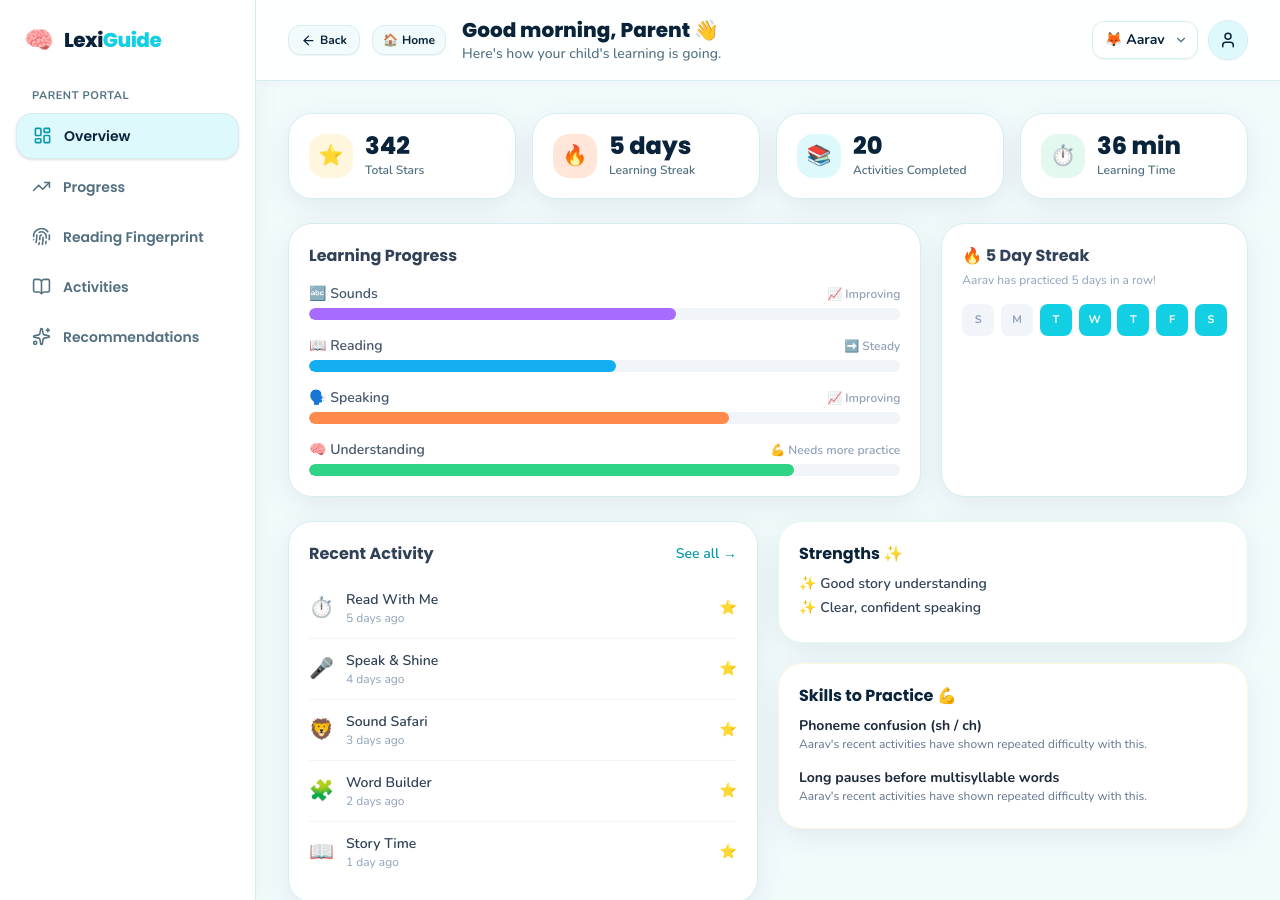
Test: Phase 3: Parent Experience › parent nav has exactly 5 primary items, Settings reached via avatar menu
The width and height of the screenshot is (1280, 900).
Check: the heading "Good morning, Parent 👋" is shown, box [462,16,721,44]
Check: the text "Overview" is shown, box [64,126,130,146]
Click the button named "parent menu" at (1228, 40), box [1208,20,1248,60]
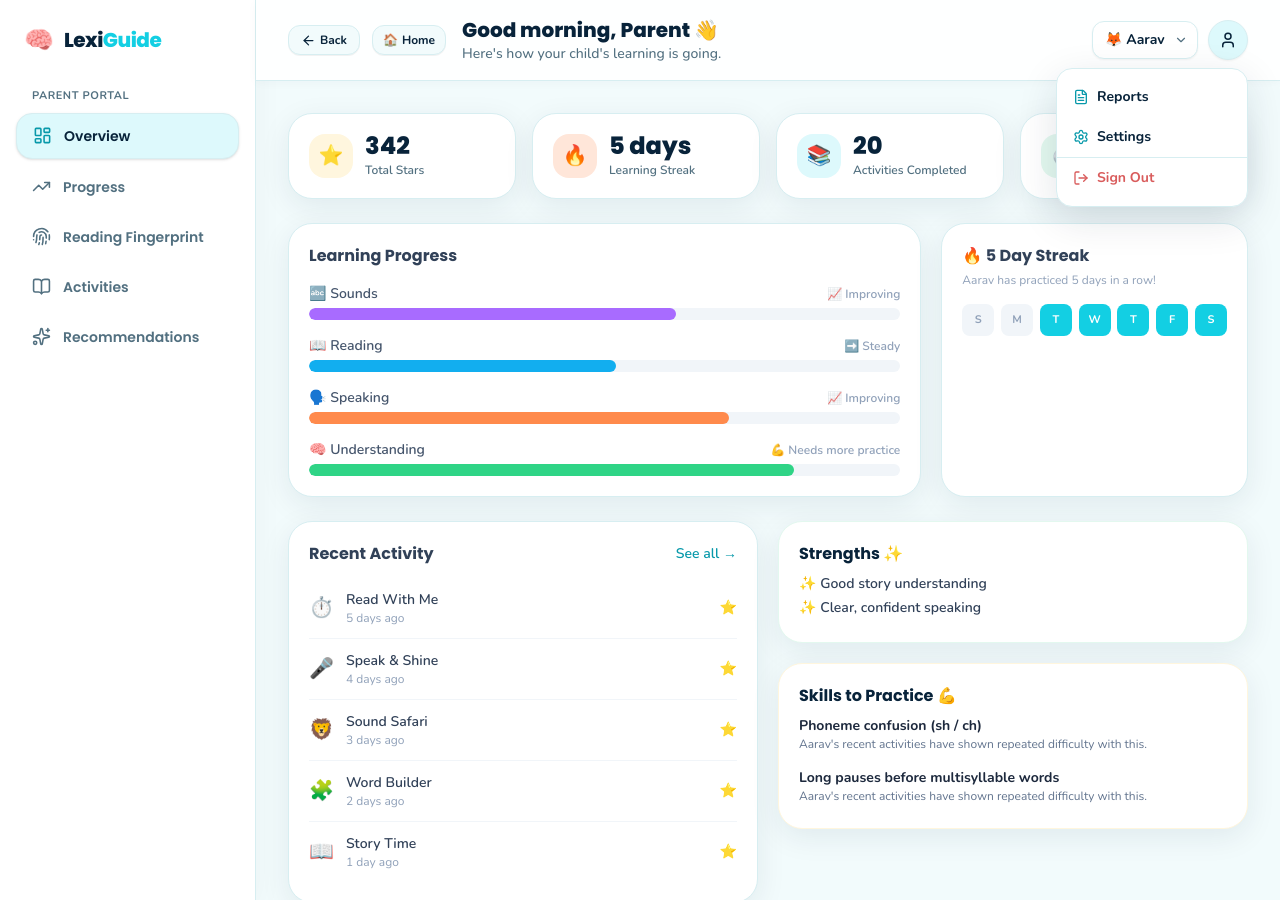
Check: the button "Settings" is shown, box [1057,117,1247,157]
